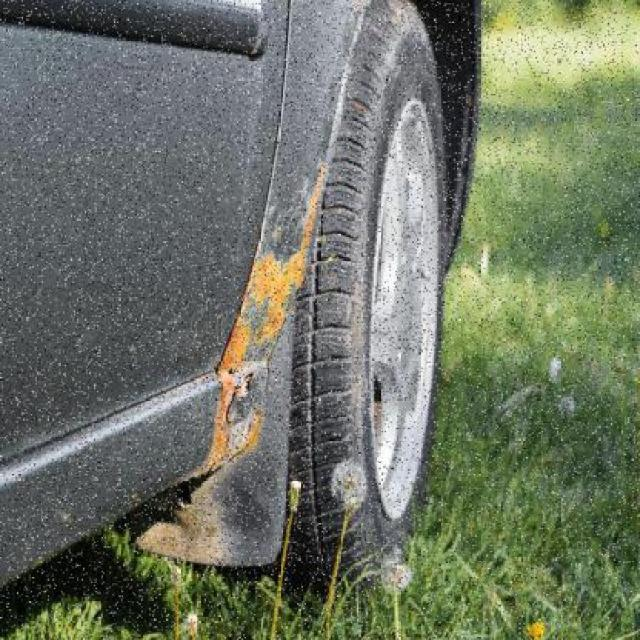quaterpanel-dent: (268, 5, 404, 513)
